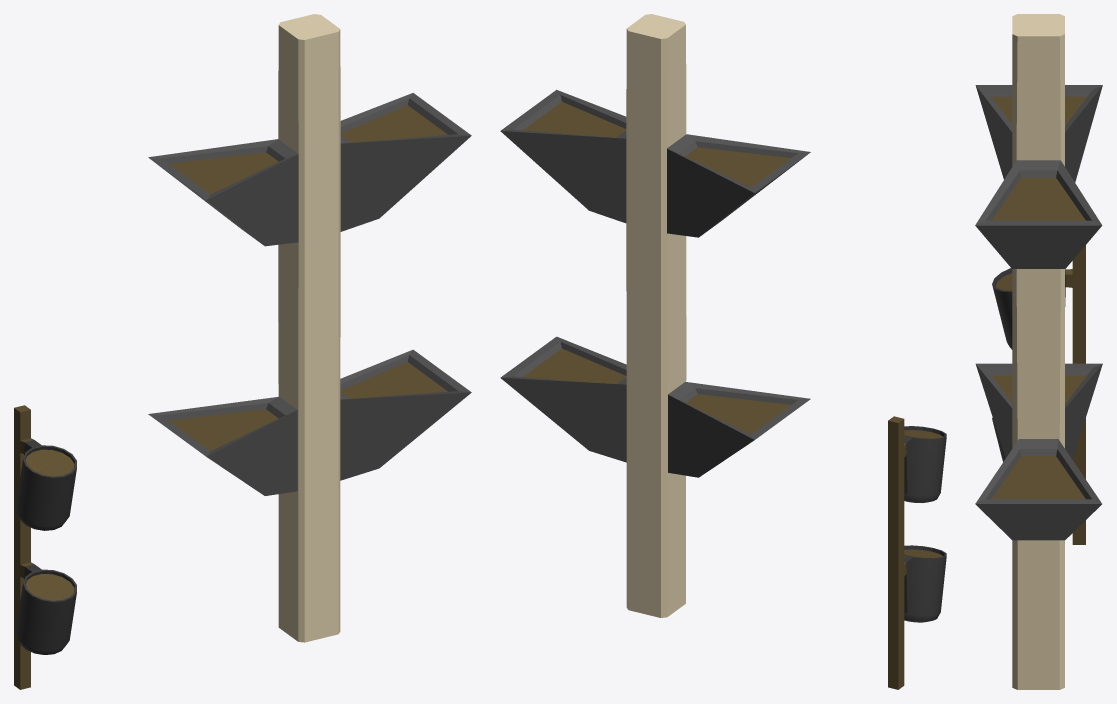
The model's file is farming-plot.glb.
3 renders of one model, left to right at view 1: azimuth 30°, elevation 25°; view 2: azimuth 150°, elevation 25°; view 3: azimuth 270°, elevation 25°, orthographic. The views are drawn at different scales.
Visible parts, largest first — view 1: Level2_Farm_Plot, Level1_Farm_Plot; view 2: Level2_Farm_Plot, Level1_Farm_Plot; view 3: Level2_Farm_Plot, Level1_Farm_Plot.
Part boxes in pixels (x1,y1,x2,y2): Level2_Farm_Plot: (148, 14, 471, 642); Level1_Farm_Plot: (14, 405, 76, 689); Level2_Farm_Plot: (500, 14, 810, 617); Level1_Farm_Plot: (888, 416, 946, 689); Level2_Farm_Plot: (975, 14, 1102, 689); Level1_Farm_Plot: (992, 245, 1085, 544).
Bounding box in the file's own units: 24.37 × 33.32 × 5.85.
